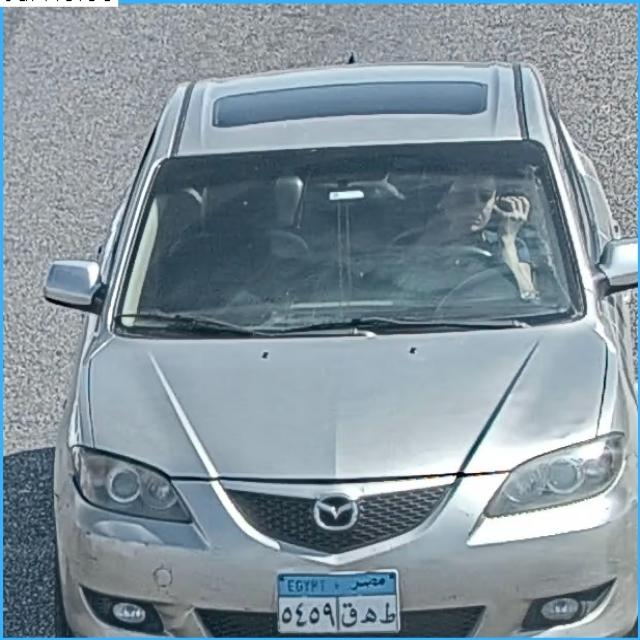windshield: (118, 154, 584, 326)
